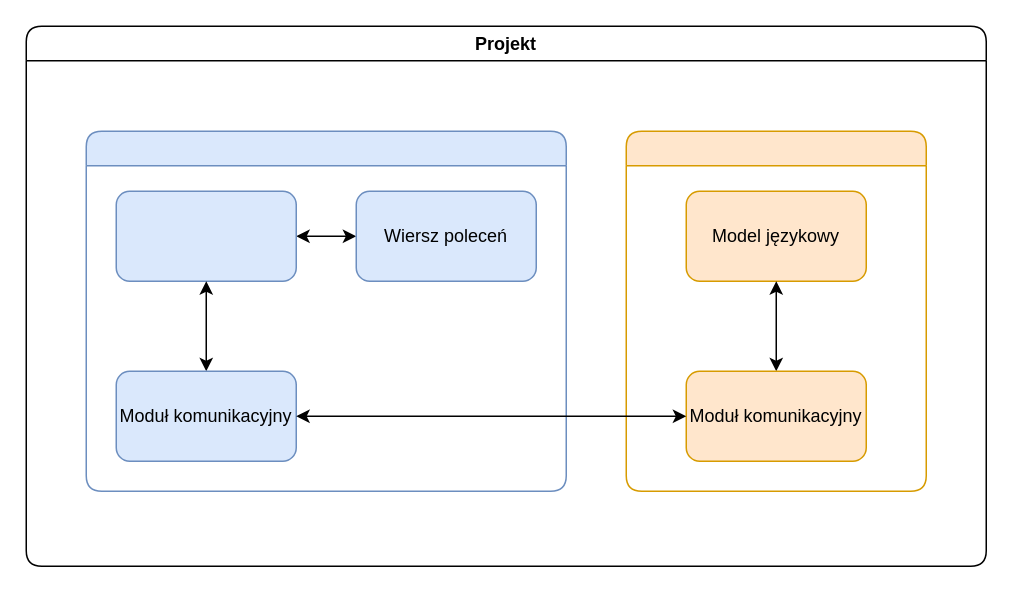
Image size: 1013x593. Some labels were removed from this diagram. The shapes that lost their labels are listed below. From the top down, each one's box as (x1, y1, x2, y2) in pixels, then its label:
(115, 190, 296, 281): Aplikacja chatu
(85, 130, 566, 491): Klient
(625, 130, 926, 491): Serwer
